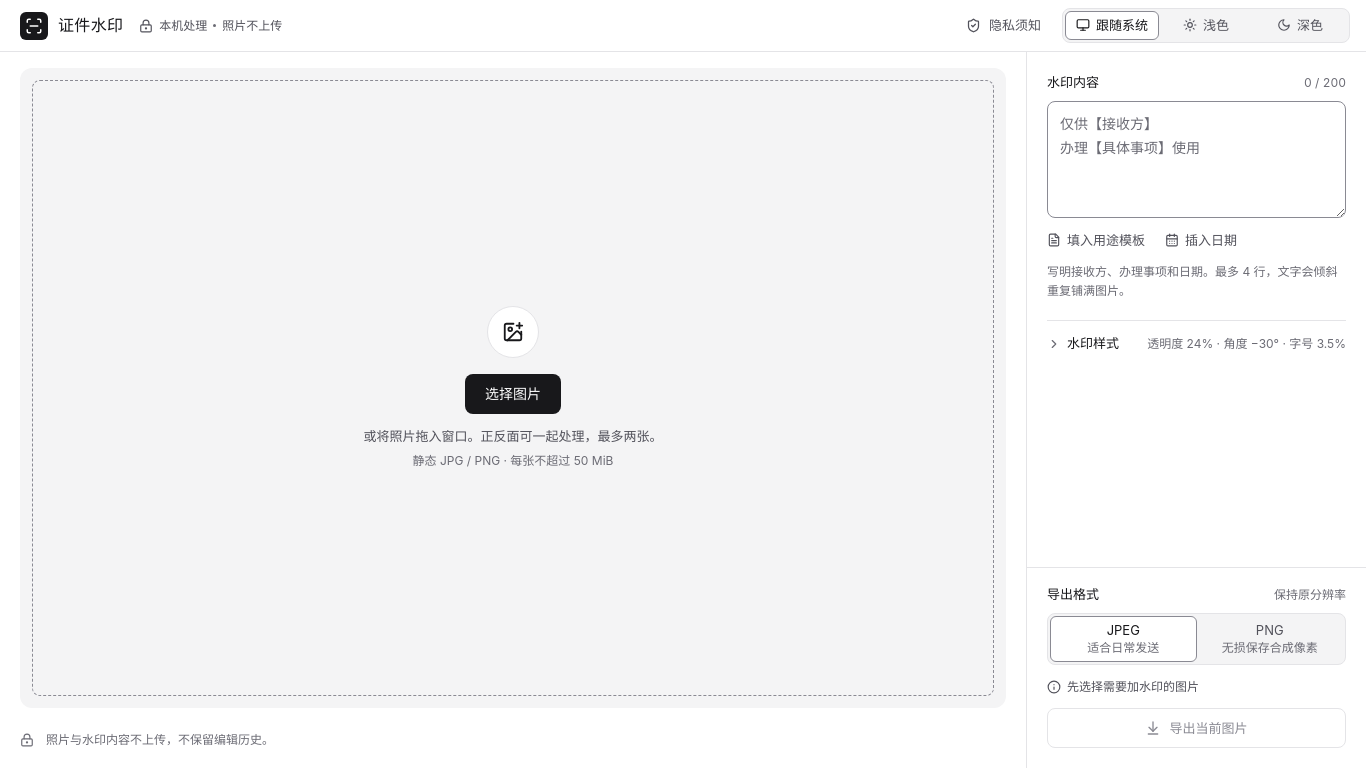
the template fills blank text with 【接收方】 selected and asks before replacing typed text
Click the button "填入用途模板" at (1096, 240), box [1039,226,1153,254]
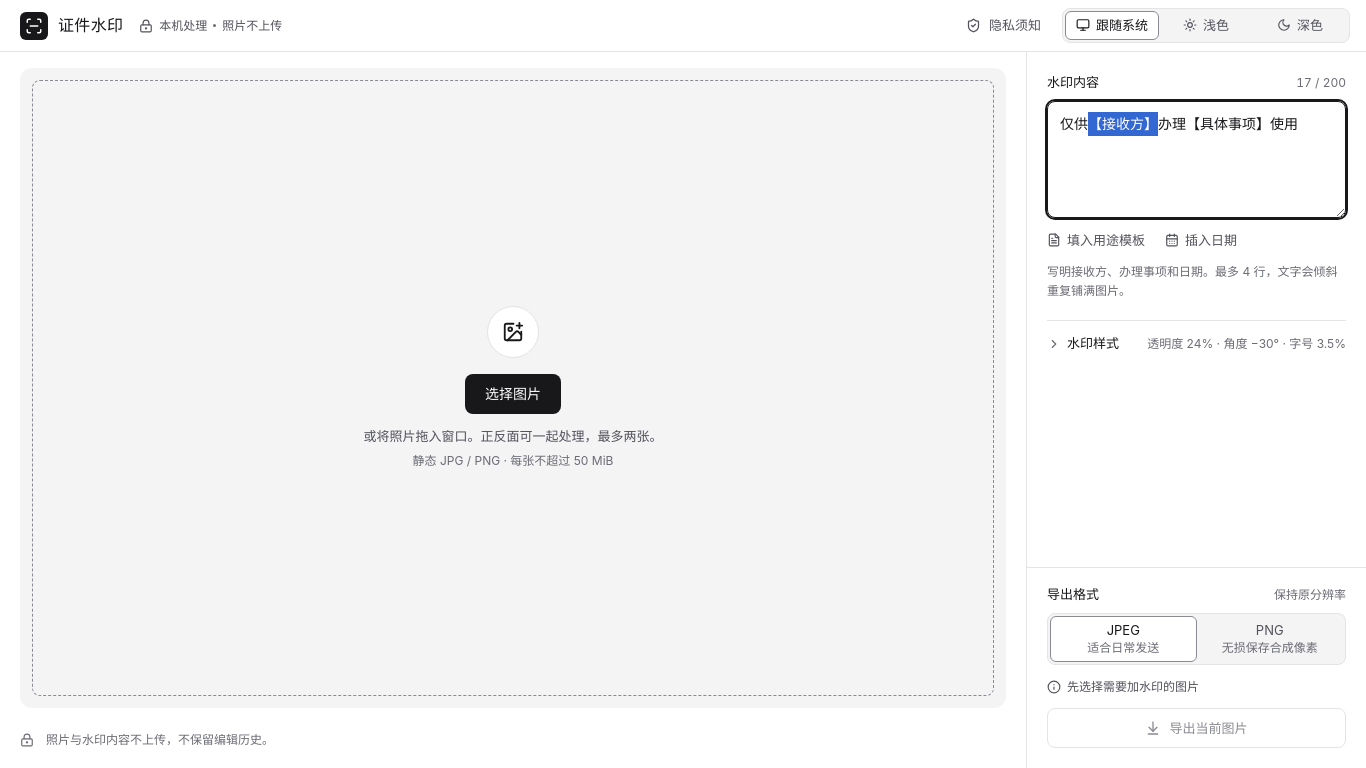
Result: the text box labelled "水印内容" holds "仅供【接收方】办理【具体事项】使用" at [1047,101,1346,218]
Type keys "示例银行"
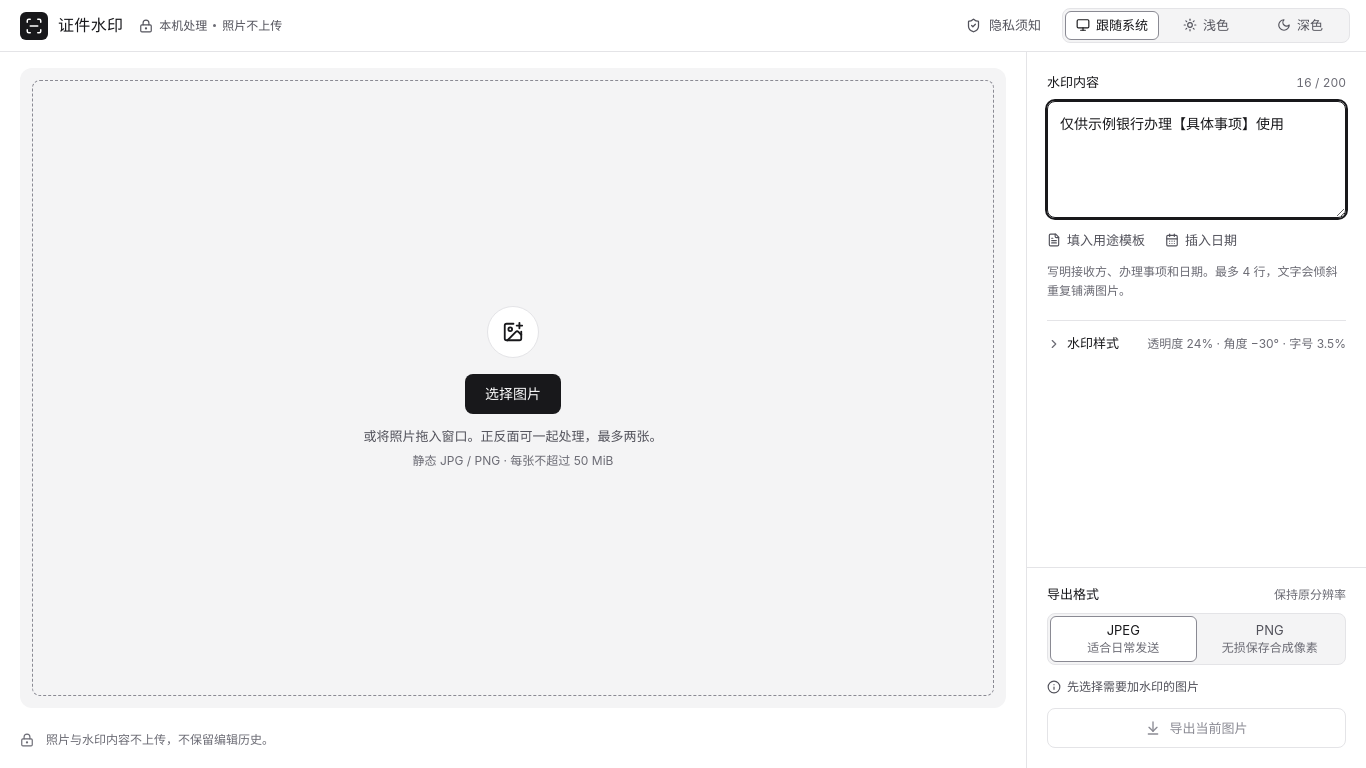
Result: the text box labelled "水印内容" holds "仅供示例银行办理【具体事项】使用"
Replace the text in the text box labelled "水印内容" with "我自己写的用途" at (1196, 159), box [1047,101,1346,218]
Click the button "填入用途模板" at (1096, 240), box [1039,226,1153,254]
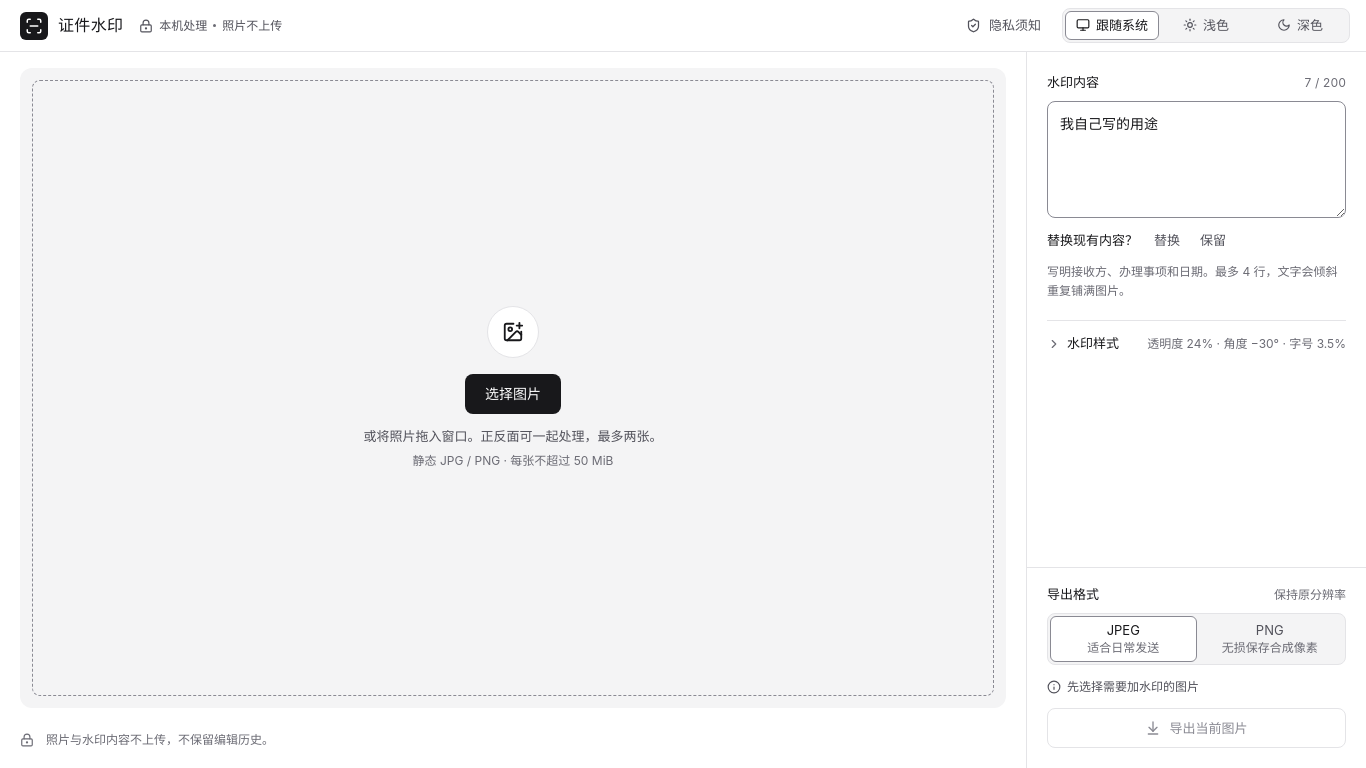
Result: the element "替换现有内容？" is shown at [1047,226,1234,254]
Click the button "保留" at (1213, 240), box [1192,226,1234,254]
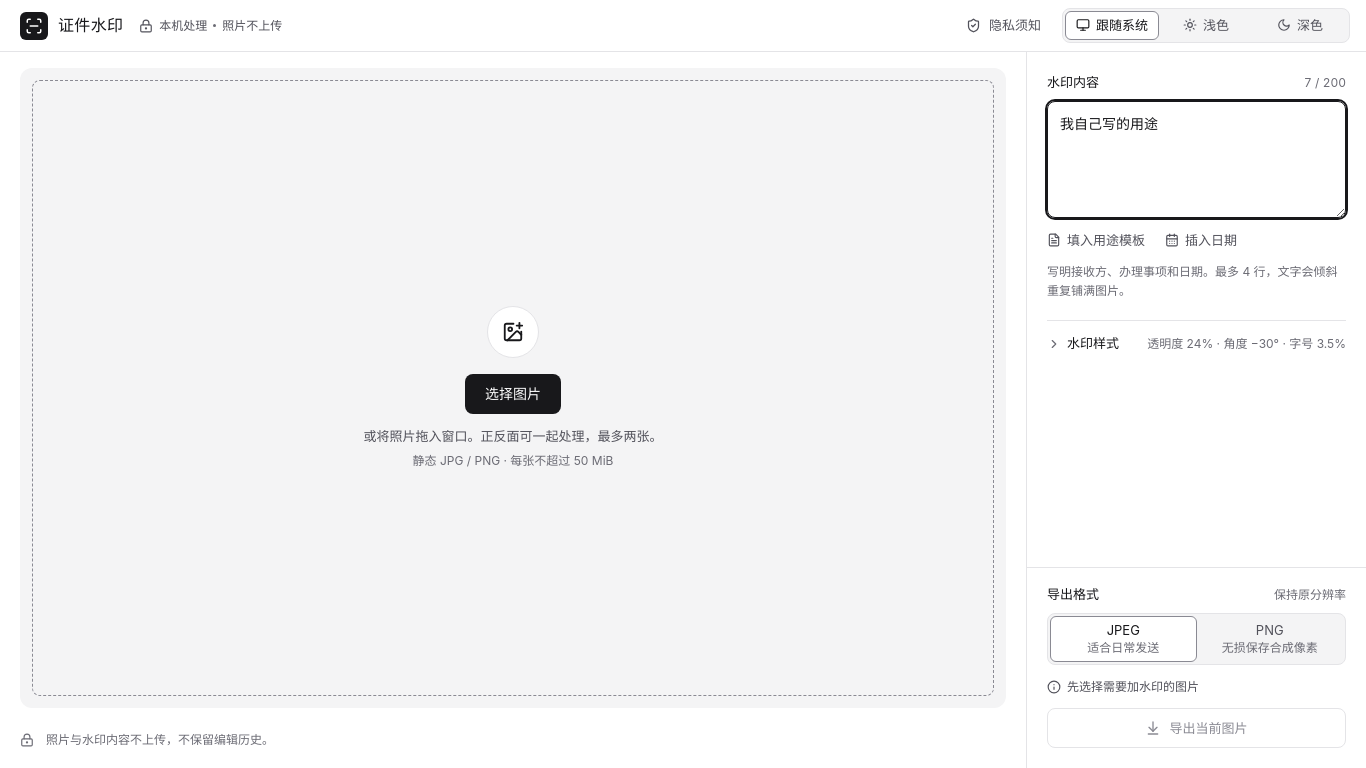
Result: the text "替换现有内容？" is gone
Click the button "填入用途模板" at (1096, 240), box [1039,226,1153,254]
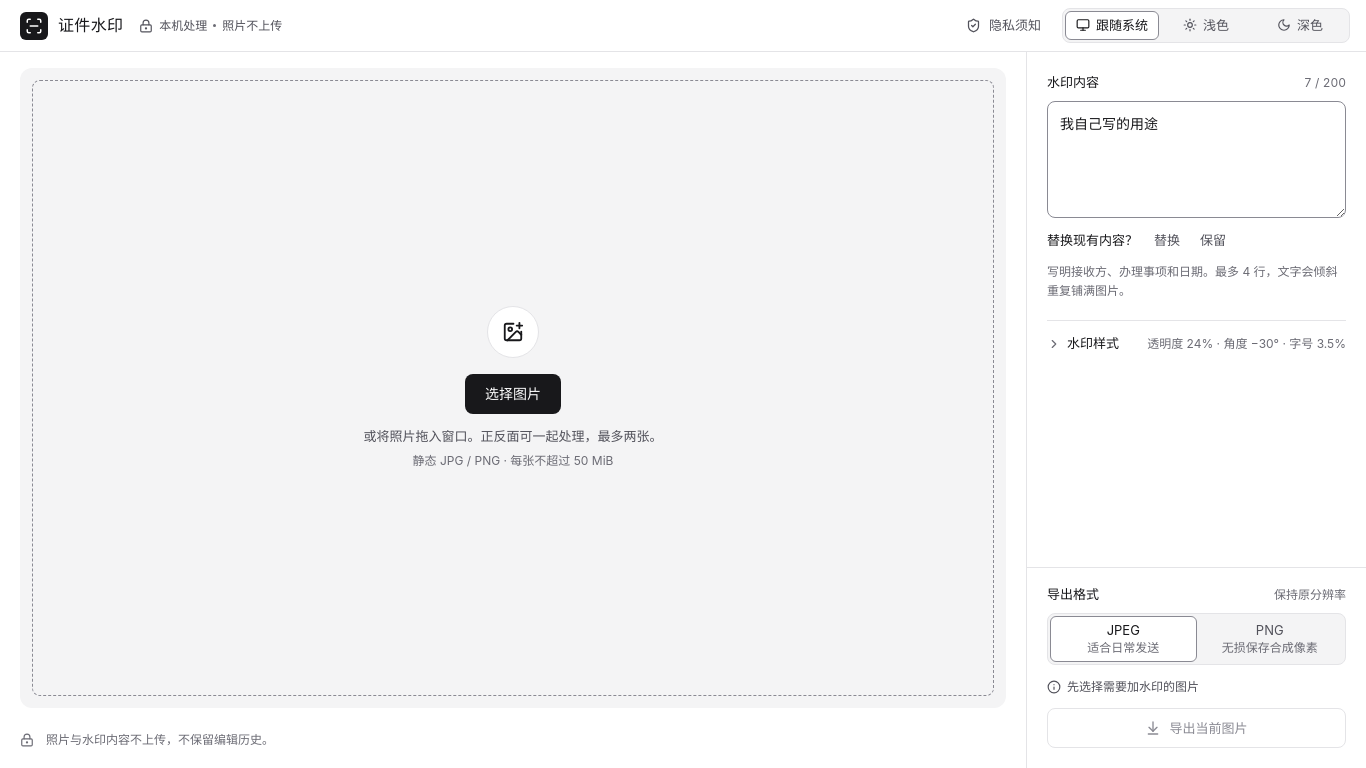
Click the button "替换" at (1167, 240), box [1146,226,1188,254]
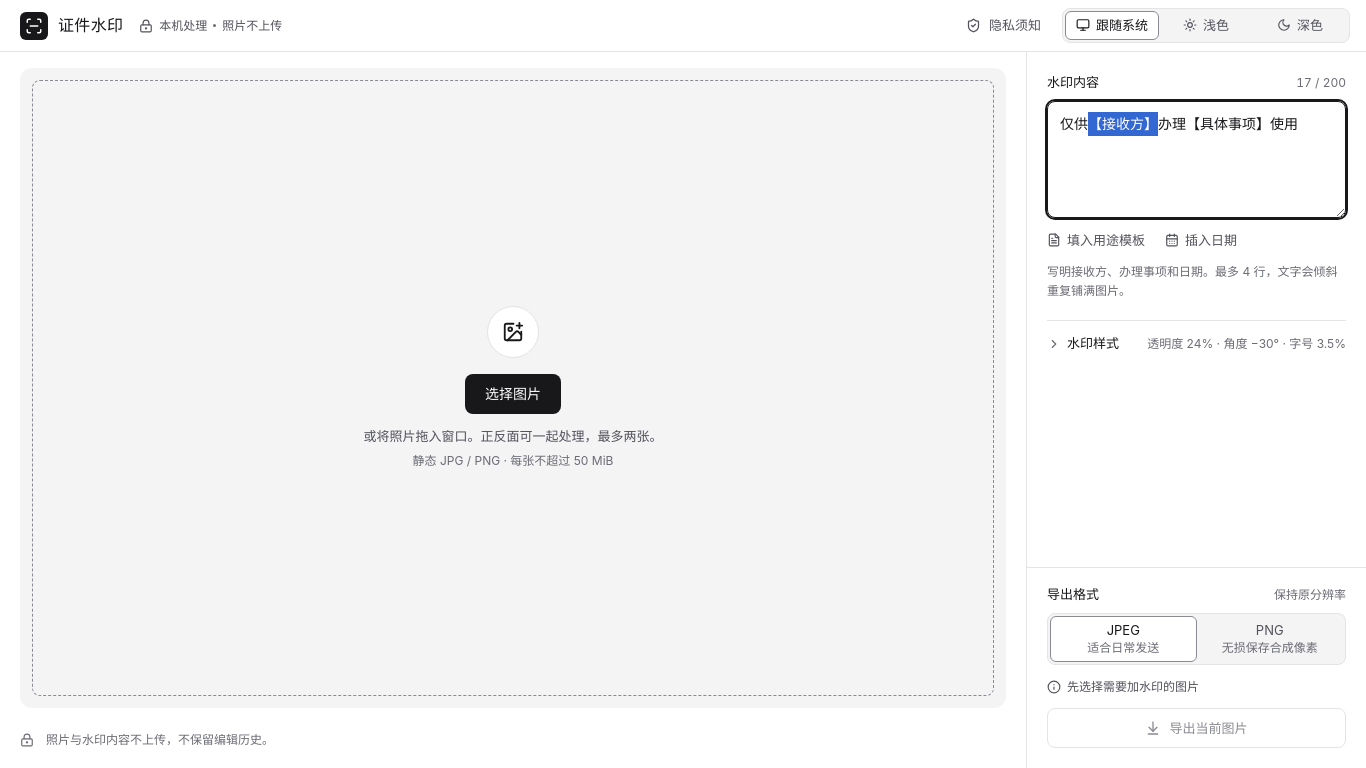
Result: the text box labelled "水印内容" holds "仅供【接收方】办理【具体事项】使用" at [1047,101,1346,218]
